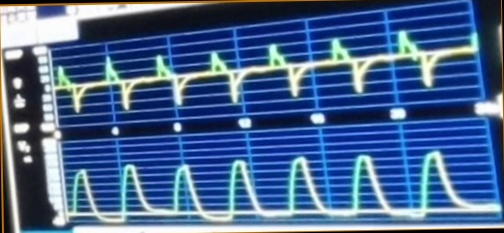Accumulation Flow: (53, 33, 468, 110)
Volume: (67, 149, 493, 225)
